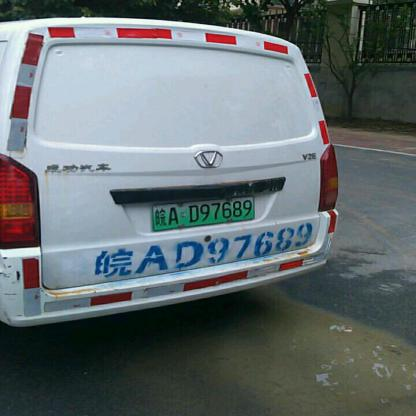lp: (153, 195, 255, 229)
